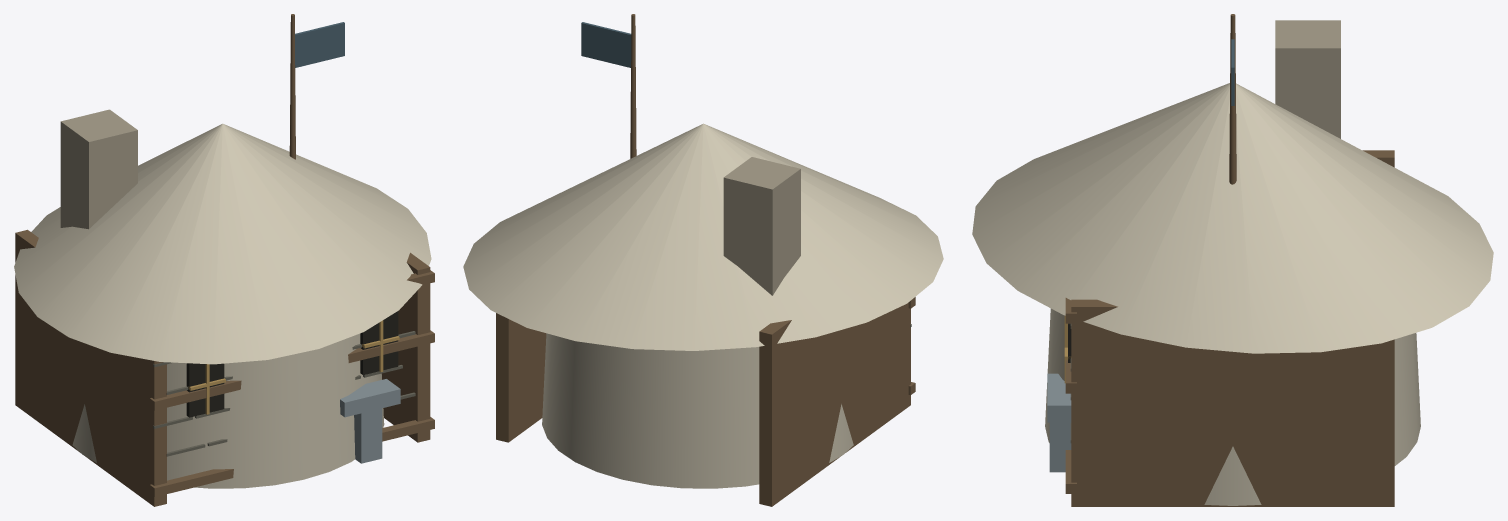
The model's file is b-smithy-steppe.glb.
3 views of the same model, side by side, from view 1: azimuth 30°, elevation 25°; view 2: azimuth 150°, elevation 25°; view 3: azimuth 270°, elevation 25° (orthographic). The views are drawn at different scales.
Parts seen in each view (by area): view 1: Structure; view 2: Structure; view 3: Structure.
Boxes of the visible parts, left/top/right/bottom form: Structure: left=14, top=14, right=434, bottom=506; Structure: left=463, top=14, right=943, bottom=506; Structure: left=972, top=14, right=1493, bottom=506.
Size of the model in its own units: 5.55 by 5.33 by 5.55.
